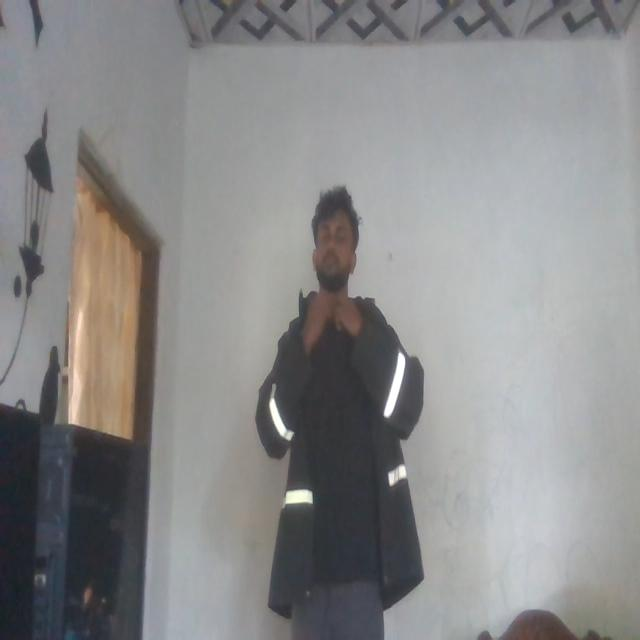Jacket_Wearer: (243, 296, 434, 584)
Person: (259, 171, 426, 640)
